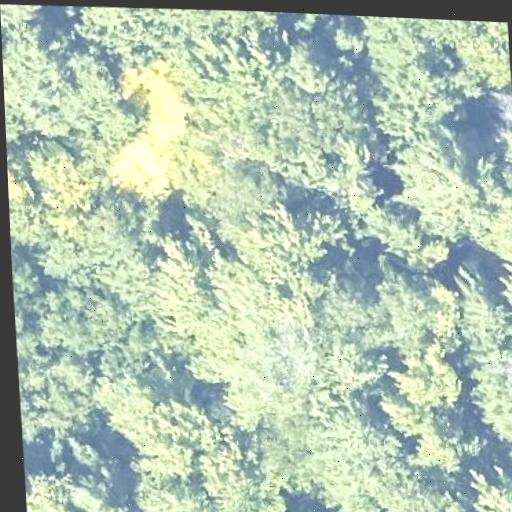tree-top: (108, 385, 250, 512), (204, 193, 345, 320), (95, 52, 211, 204), (221, 75, 379, 180), (68, 326, 196, 451), (286, 396, 413, 512), (382, 117, 493, 234), (360, 34, 484, 138), (74, 3, 281, 60), (32, 202, 169, 288), (16, 280, 146, 369), (365, 338, 470, 440), (25, 36, 127, 134), (15, 144, 115, 242), (17, 343, 107, 447), (236, 316, 324, 405), (137, 234, 214, 331), (208, 152, 288, 244), (375, 258, 461, 341), (452, 146, 512, 260), (310, 265, 381, 346), (448, 264, 512, 352), (2, 38, 52, 149), (466, 334, 512, 446), (316, 334, 395, 398), (278, 24, 346, 92), (358, 470, 465, 512), (399, 425, 473, 477), (23, 460, 91, 512), (0, 3, 63, 52), (461, 455, 512, 512), (10, 236, 36, 345), (7, 153, 42, 221)
